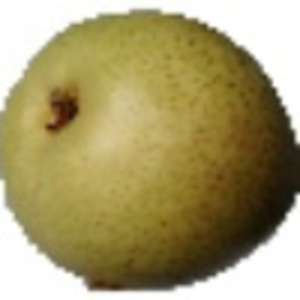pera: (1, 6, 300, 296)
